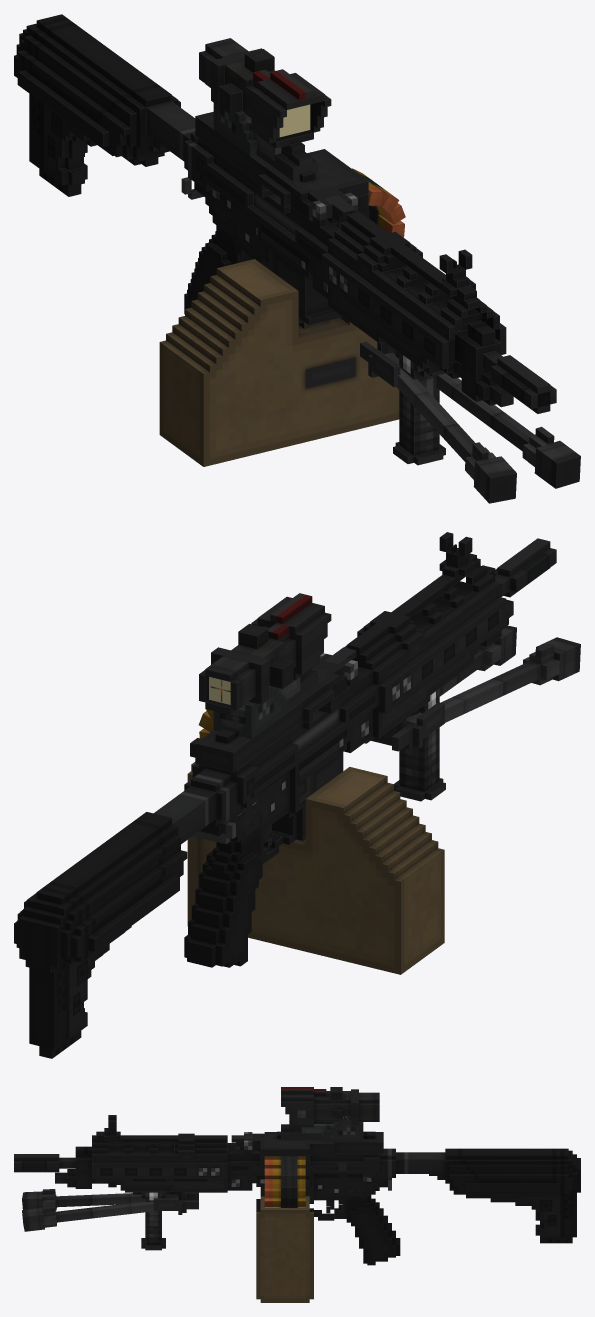
File: RD_KRYTAC_SNOW.glb
3 views of the same model, one above another, from view 1: azimuth 30°, elevation 25°; view 2: azimuth 150°, elevation 25°; view 3: azimuth 270°, elevation 25° (orthographic). The views are drawn at different scales.
Parts seen in each view (by area): view 1: KRYTAC, KRYTAC_CLIP, SCOPE_ACOG, KRYTAC_COVER, DIPOD2_LEG2, DIPOD2_LEG1, GRIP1, SCOPE_EOTECH, DIPOD2, KRYTAC_SCOPE_P2; view 2: KRYTAC, KRYTAC_CLIP, SCOPE_ACOG, KRYTAC_COVER, DIPOD2_LEG1, GRIP1, SCOPE_EOTECH, DIPOD2, DIPOD2_LEG2, KRYTAC_SCOPE_P2; view 3: KRYTAC, KRYTAC_CLIP, SCOPE_ACOG, KRYTAC_COVER, DIPOD2_LEG2, DIPOD2_LEG1, SCOPE_EOTECH, GRIP1, DIPOD2, KRYTAC_BOLT, KRYTAC_BULLET05, KRYTAC_BULLET03 (+3 smaller).
Boxes of the visible parts, <box> form: KRYTAC: <box>14,14,556,413</box>; KRYTAC_CLIP: <box>159,259,399,466</box>; SCOPE_ACOG: <box>199,38,331,181</box>; KRYTAC_COVER: <box>195,111,368,218</box>; DIPOD2_LEG2: <box>436,373,580,488</box>; DIPOD2_LEG1: <box>384,352,516,503</box>; GRIP1: <box>393,349,445,465</box>; SCOPE_EOTECH: <box>213,103,281,161</box>; DIPOD2: <box>360,341,445,387</box>; KRYTAC_SCOPE_P2: <box>439,249,475,296</box>; KRYTAC: <box>14,538,556,1058</box>; KRYTAC_CLIP: <box>187,762,444,974</box>; SCOPE_ACOG: <box>199,593,331,714</box>; KRYTAC_COVER: <box>195,654,350,772</box>; DIPOD2_LEG1: <box>406,637,580,725</box>; GRIP1: <box>394,686,445,801</box>; SCOPE_EOTECH: <box>213,677,300,739</box>; DIPOD2: <box>364,675,457,751</box>; DIPOD2_LEG2: <box>439,625,516,696</box>; KRYTAC_SCOPE_P2: <box>439,532,475,576</box>; KRYTAC: <box>14,1131,580,1265</box>; KRYTAC_CLIP: <box>256,1196,313,1302</box>; SCOPE_ACOG: <box>281,1087,379,1140</box>; KRYTAC_COVER: <box>244,1131,383,1156</box>; DIPOD2_LEG2: <box>22,1197,177,1231</box>; DIPOD2_LEG1: <box>22,1189,178,1210</box>; SCOPE_EOTECH: <box>301,1116,363,1142</box>; GRIP1: <box>141,1190,165,1250</box>; DIPOD2: <box>125,1190,198,1214</box>; KRYTAC_BOLT: <box>252,1162,379,1178</box>; KRYTAC_BULLET05: <box>264,1165,305,1178</box>; KRYTAC_BULLET03: <box>264,1188,305,1198</box>.
Size of the model in its own units: 0.3247 by 0.5018 by 1.36.
7 materials, 7 textured.
